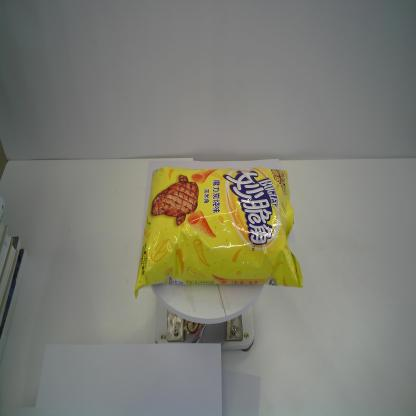Puffed Food: (132, 164, 305, 302)
